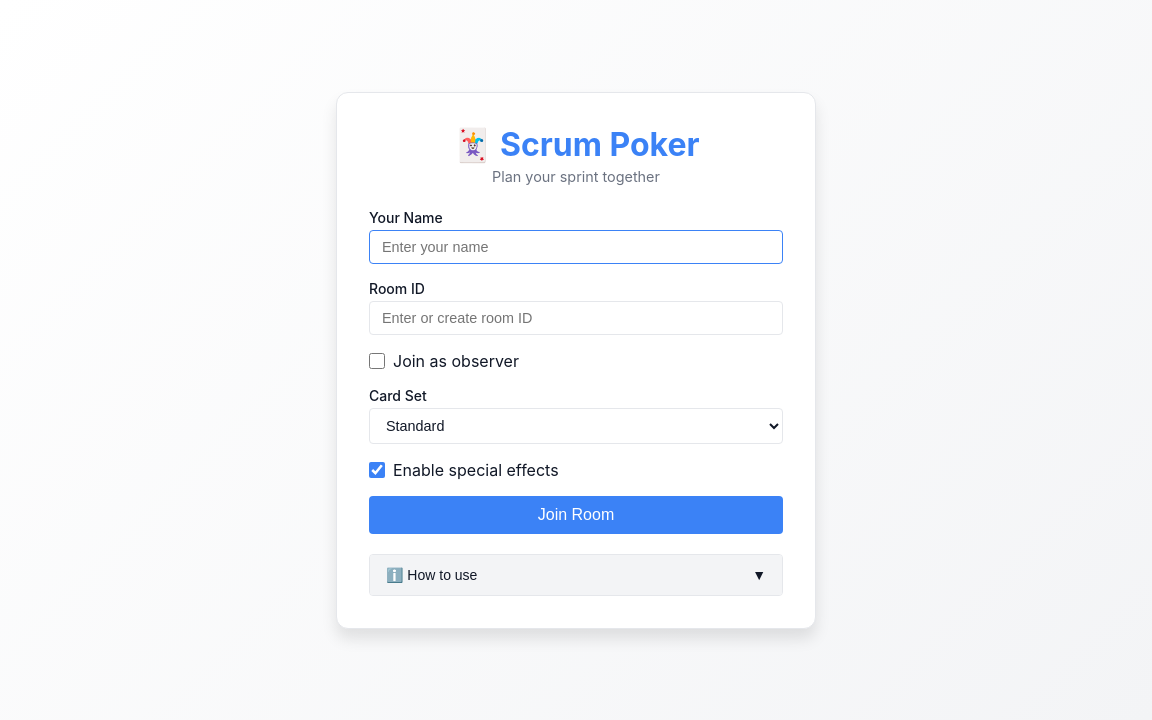
Scenario: WelcomeScreen › toggles help accordion
The width and height of the screenshot is (1152, 720).
Click the button "ℹ️ How to use ▼".
click(432, 574)  # box [370,554,782,594]
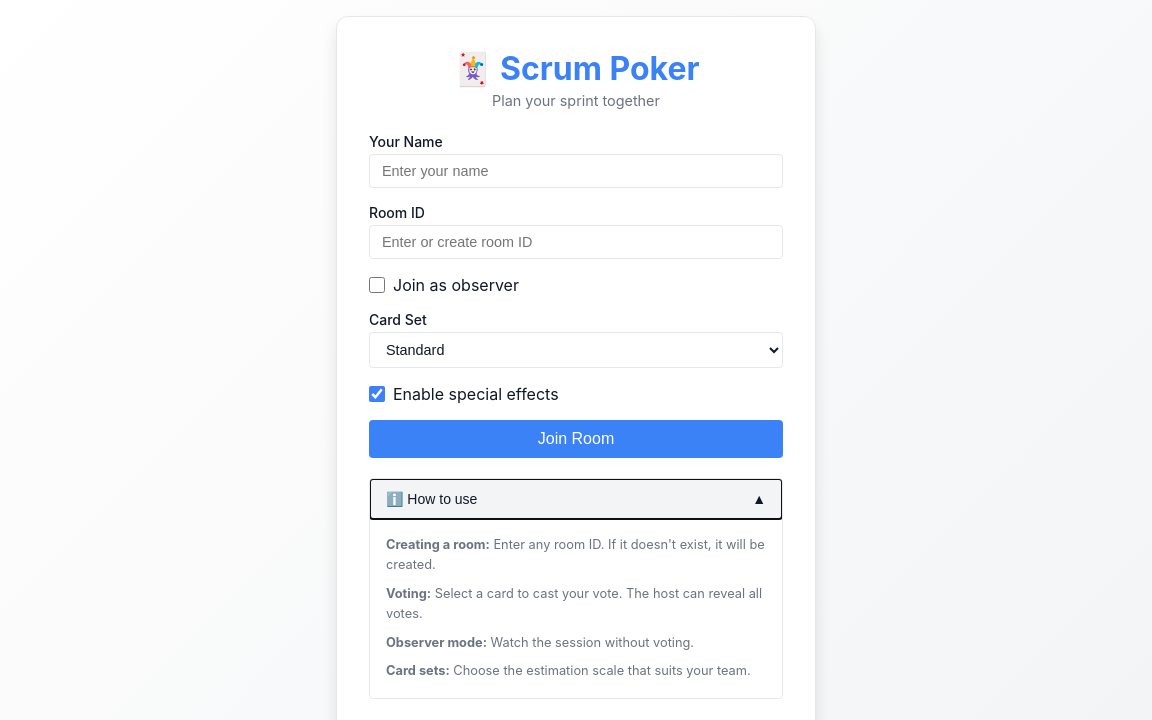
Now the button "ℹ️ How to use ▲" is expanded
Now the text "Creating a room:" is shown, box [386,537,490,552]
Click the button "ℹ️ How to use ▲".
click(432, 499)  # box [370,479,782,519]
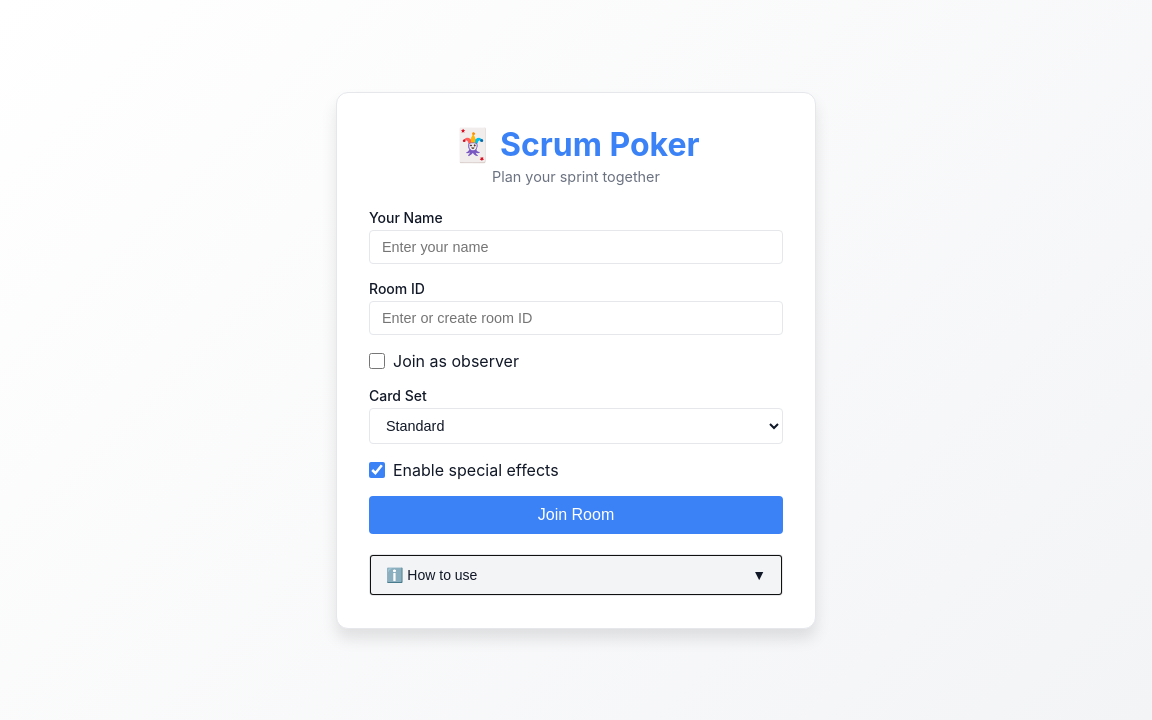
Now the button "ℹ️ How to use ▼" is collapsed, box [370,554,782,594]
